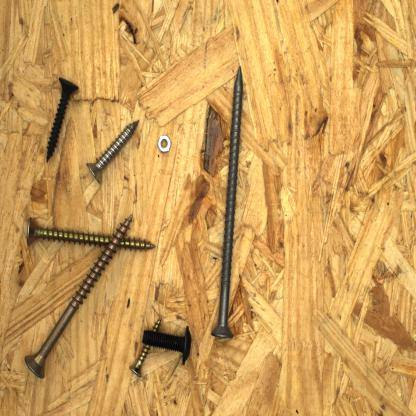screw: (22, 210, 137, 382), (210, 64, 245, 341), (24, 213, 159, 254), (83, 117, 142, 186), (42, 73, 83, 165), (140, 318, 194, 365), (127, 313, 164, 379)
